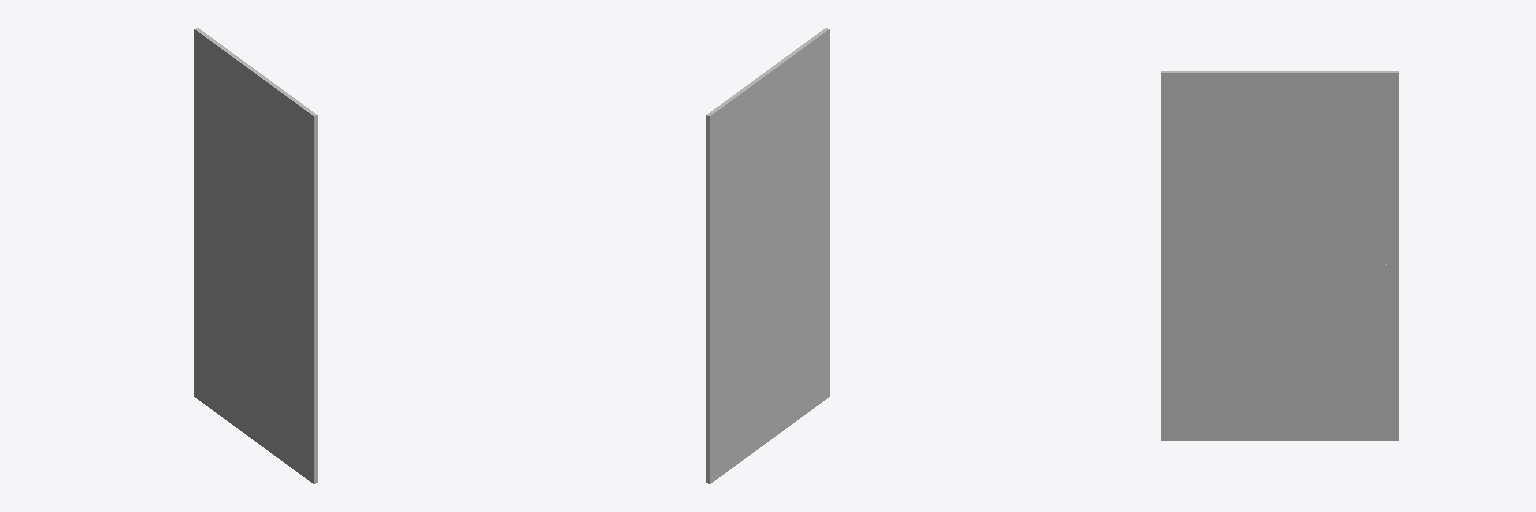
3 renders of one model, left to right at view 1: azimuth 30°, elevation 25°; view 2: azimuth 150°, elevation 25°; view 3: azimuth 270°, elevation 25°, orthographic.
Visible parts, largest first — view 1: back16_zoetrope.827; view 2: back16_zoetrope.827; view 3: back16_zoetrope.827.
Boxes of the visible parts, x1=… form: back16_zoetrope.827: x1=194, y1=28, x2=317, y2=483; back16_zoetrope.827: x1=706, y1=28, x2=829, y2=483; back16_zoetrope.827: x1=1161, y1=71, x2=1398, y2=440.
Bounding box in the file's own units: 0.0109 × 0.9246 × 0.5439.